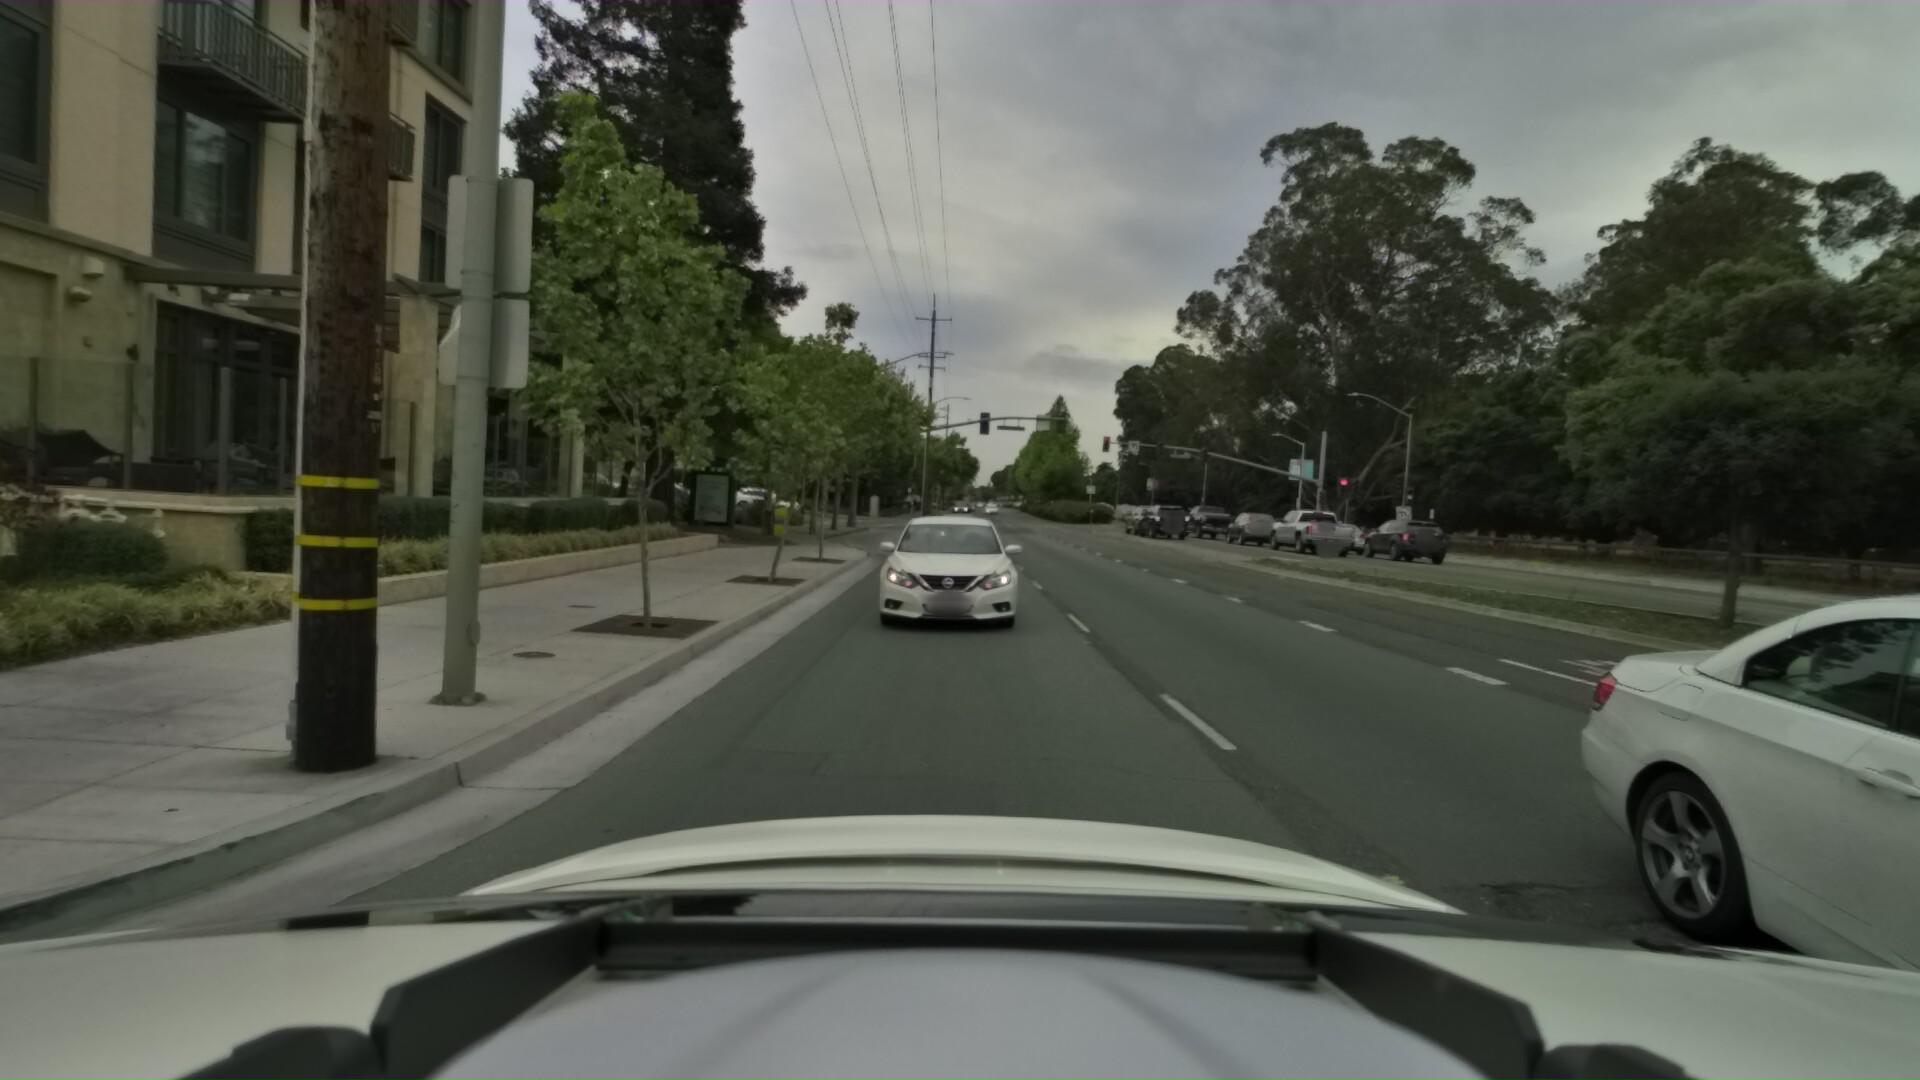car: (1395, 535, 1920, 1080), (869, 502, 1026, 640), (1258, 495, 1353, 554), (1348, 509, 1443, 560), (1296, 512, 1364, 551), (1218, 504, 1276, 543), (1176, 497, 1234, 535), (928, 492, 978, 535), (1131, 496, 1185, 535), (1118, 497, 1164, 531)
